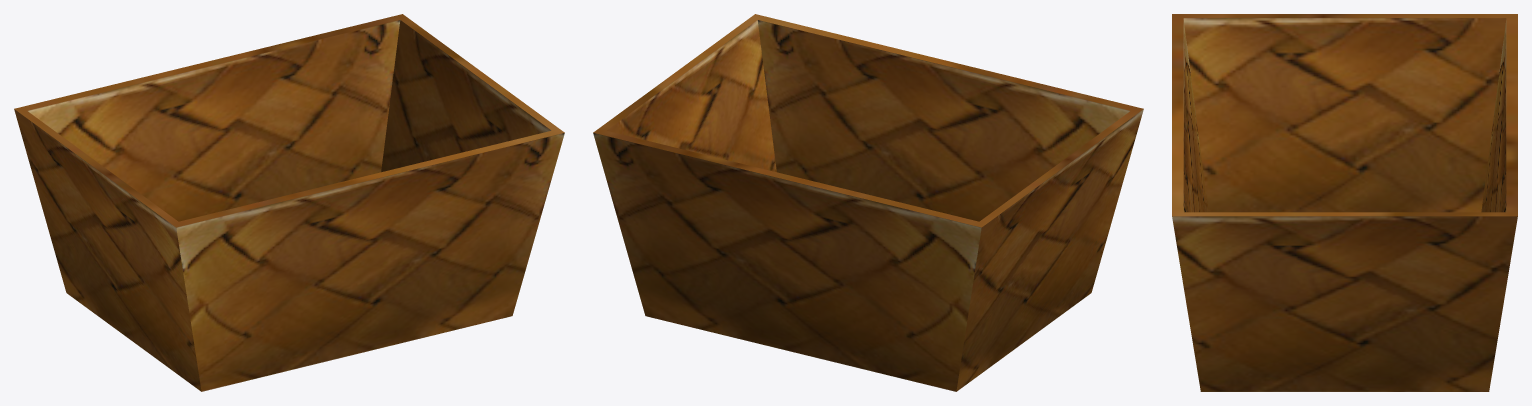
The model's file is BasketWicker02.obj.
3 views of the same model, side by side, from view 1: azimuth 30°, elevation 25°; view 2: azimuth 150°, elevation 25°; view 3: azimuth 270°, elevation 25° (orthographic). The views are drawn at different scales.
Parts seen in each view (by area): view 1: BasketWicker02; view 2: BasketWicker02; view 3: BasketWicker02.
Boxes of the visible parts, x1,y1,x2,y2 form: BasketWicker02: [14, 14, 564, 391]; BasketWicker02: [593, 14, 1143, 391]; BasketWicker02: [1172, 14, 1517, 391].
Size of the model in its own units: 0.2988 by 0.135 by 0.216.
